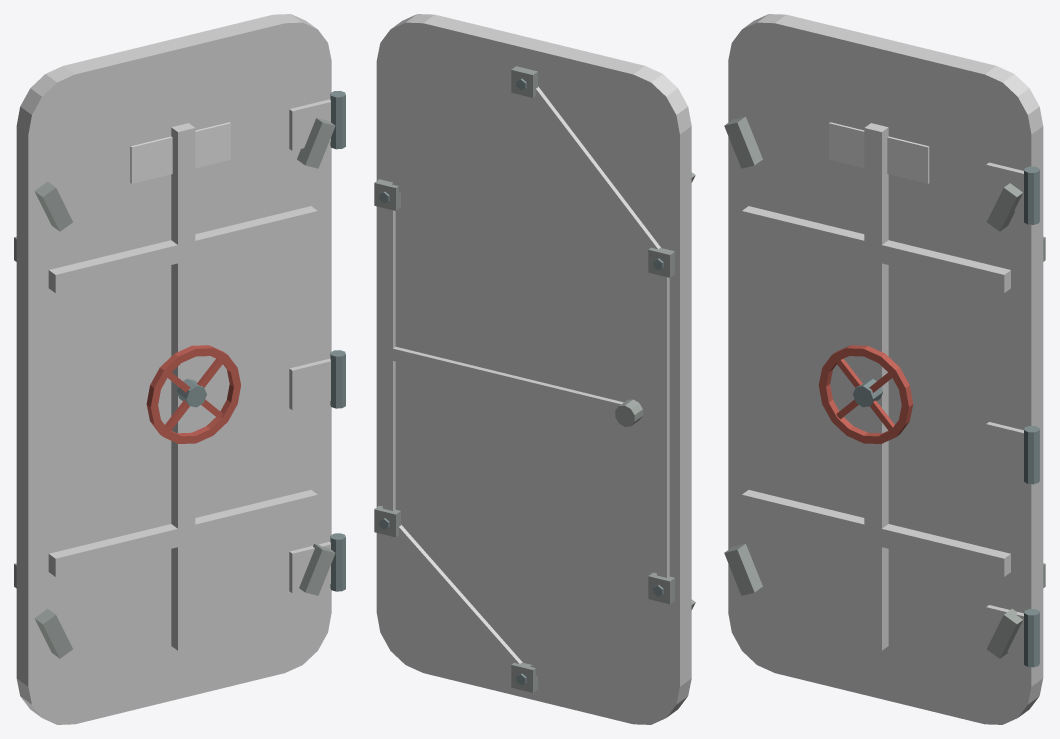
Rendered from kit_door_rusted.fbx.
3 views of the same model, side by side, from view 1: azimuth 30°, elevation 25°; view 2: azimuth 150°, elevation 25°; view 3: azimuth 330°, elevation 25° (orthographic).
Visible parts, largest first — view 1: kit_door_rusted; view 2: kit_door_rusted; view 3: kit_door_rusted.
Part boxes in pixels (box(x1,y1,x2,y2)): kit_door_rusted: box(14, 14, 345, 724); kit_door_rusted: box(374, 14, 695, 724); kit_door_rusted: box(724, 14, 1045, 724).
Size of the model in its own units: 1.08 by 2.13 by 0.22.
